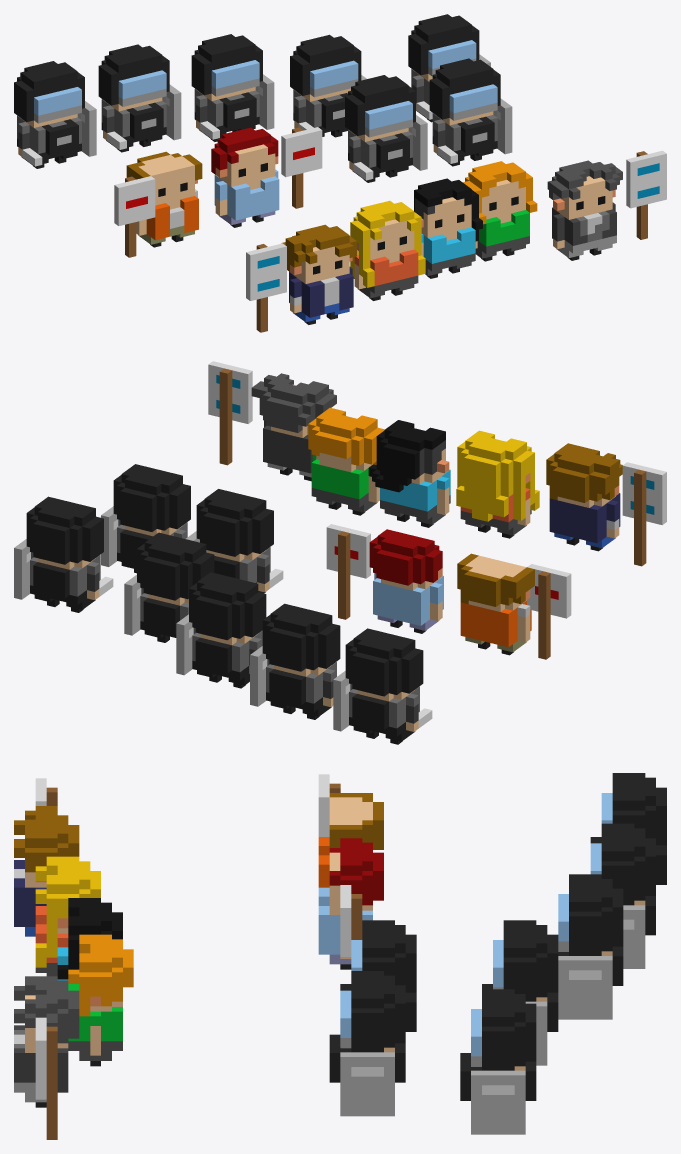
The model's file is scene_protest.obj.
3 views of the same model, one above another, from view 1: azimuth 30°, elevation 25°; view 2: azimuth 150°, elevation 25°; view 3: azimuth 270°, elevation 25° (orthographic). The views are drawn at different scales.
Bounding box in the file's own units: 60 × 12 × 60.
Materials: 1 (1 with a texture image).
